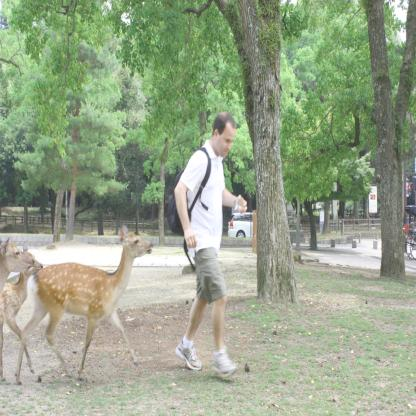Deer: (34, 228, 151, 388)
